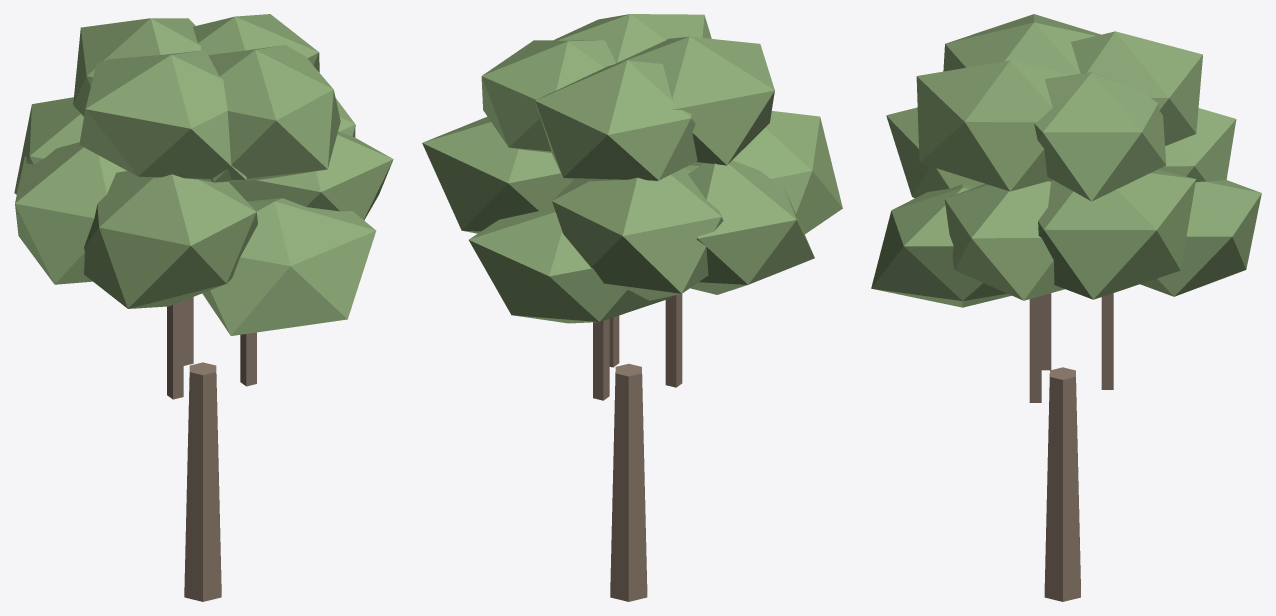
The model's file is HK_Tree_Zelkova.glb.
3 views of the same model, side by side, from view 1: azimuth 30°, elevation 25°; view 2: azimuth 150°, elevation 25°; view 3: azimuth 270°, elevation 25° (orthographic). The views are drawn at different scales.
Parts seen in each view (by area): view 1: HK_Tree_Zelkova; view 2: HK_Tree_Zelkova; view 3: HK_Tree_Zelkova.
Part boxes in pixels (x1=…): HK_Tree_Zelkova: x1=14, y1=14, x2=393, y2=601; HK_Tree_Zelkova: x1=422, y1=14, x2=842, y2=601; HK_Tree_Zelkova: x1=871, y1=14, x2=1261, y2=601.
Size of the model in its own units: 5.21 by 8.09 by 5.21.
